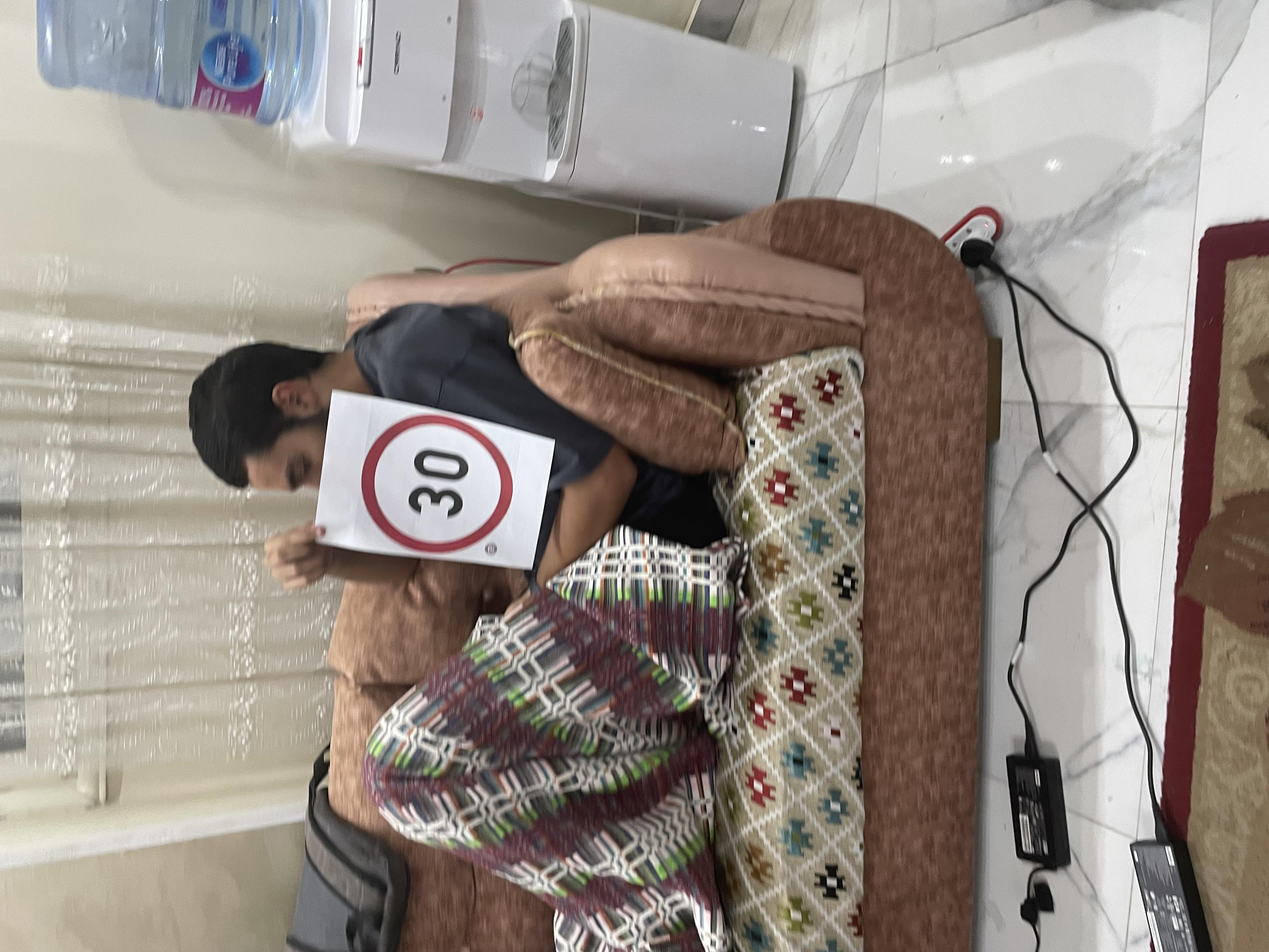30-speed: (522, 270, 731, 392)
